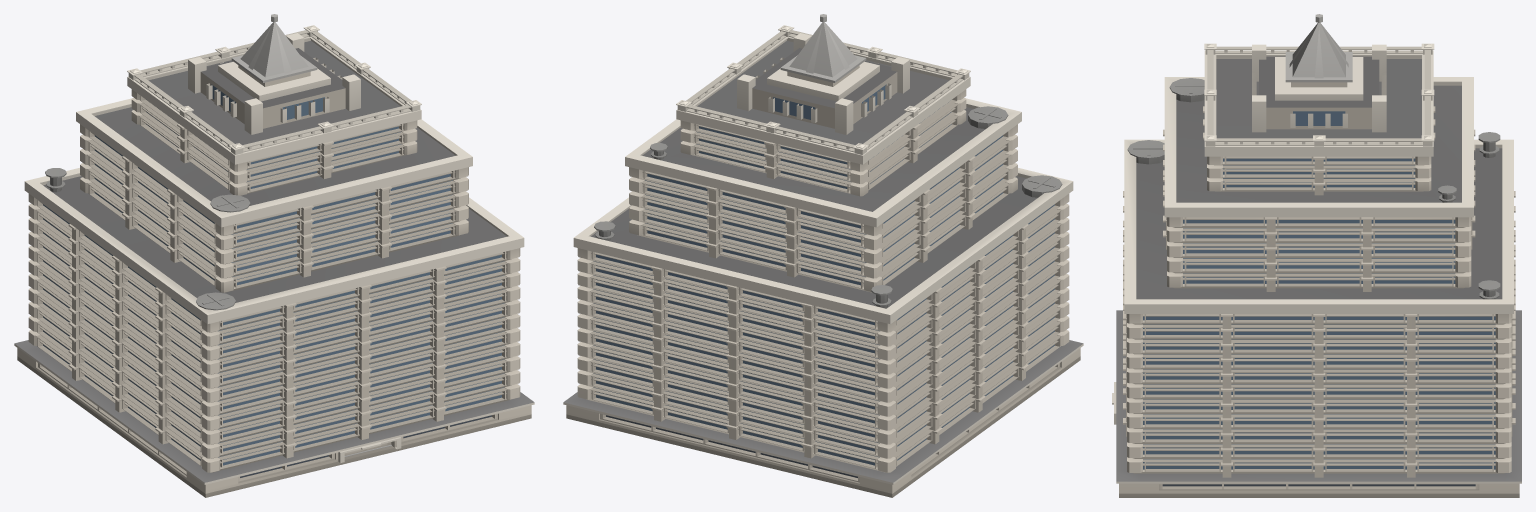
The model's file is building-tower-spire-near.glb.
3 views of the same model, side by side, from view 1: azimuth 30°, elevation 25°; view 2: azimuth 150°, elevation 25°; view 3: azimuth 270°, elevation 25° (orthographic). The views are drawn at different scales.
Parts seen in each view (by area): view 1: Building; view 2: Building; view 3: Building.
Boxes of the visible parts, <box> form: Building: <box>14,14,534,497</box>; Building: <box>563,14,1083,497</box>; Building: <box>1112,14,1521,497</box>.
Bounding box in the file's own units: 1.01 × 1.09 × 1.02.
